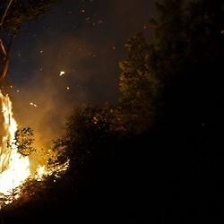fire: (1, 76, 93, 207)
